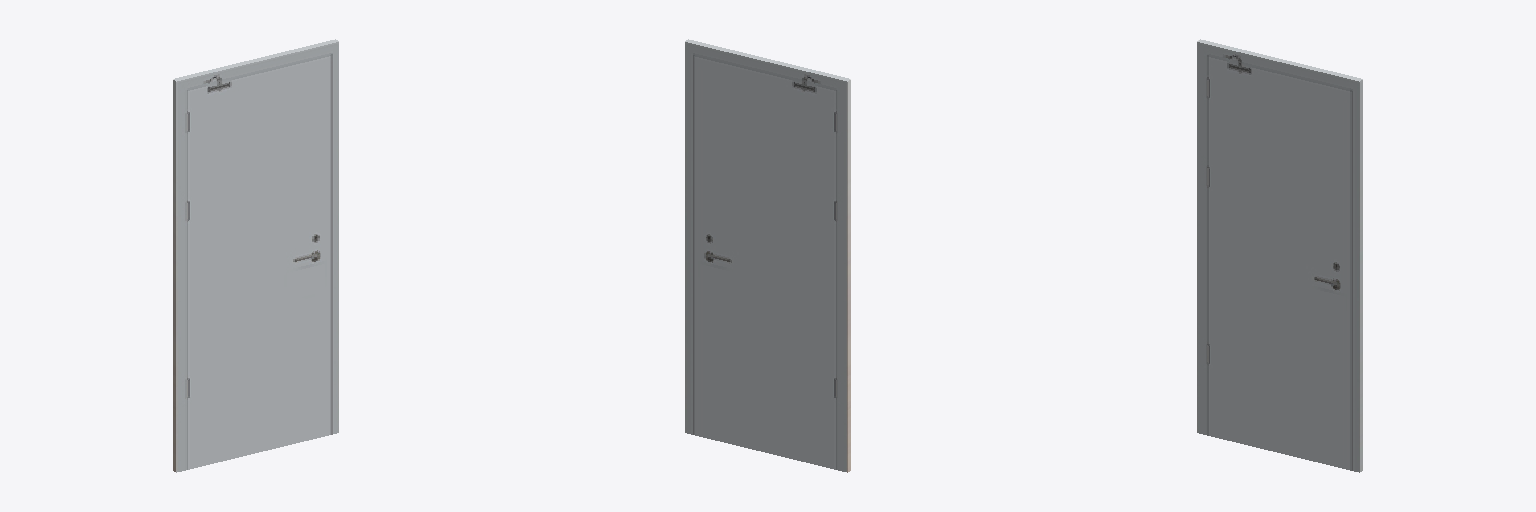
The picture shows the model from 3 angles: view 1: azimuth 30°, elevation 25°; view 2: azimuth 150°, elevation 25°; view 3: azimuth 330°, elevation 25°; orthographic projection.
Visible parts, largest first — view 1: ����506; view 2: ����506; view 3: ����506.
Boxes of the visible parts, <box> form: ����506: <box>173,39,338,472</box>; ����506: <box>685,39,850,472</box>; ����506: <box>1197,39,1362,472</box>.
Size of the model in its own units: 1.68 by 3.85 by 0.063.
1 materials, 1 textured.